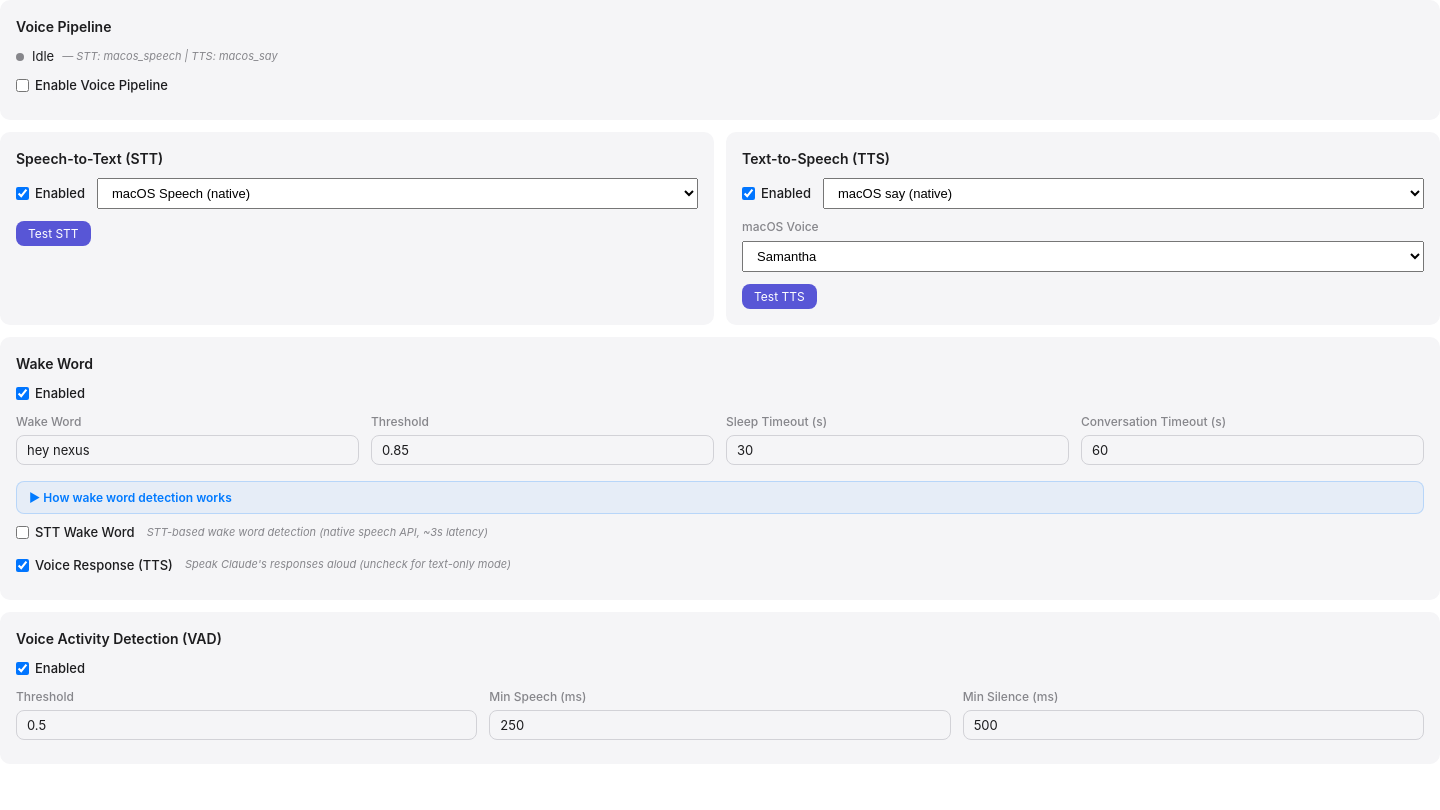
Scenario: VoiceTab › STT settings › shows STT result after successful test
Click the button "Test STT" at (53,234), box [16,221,91,246]
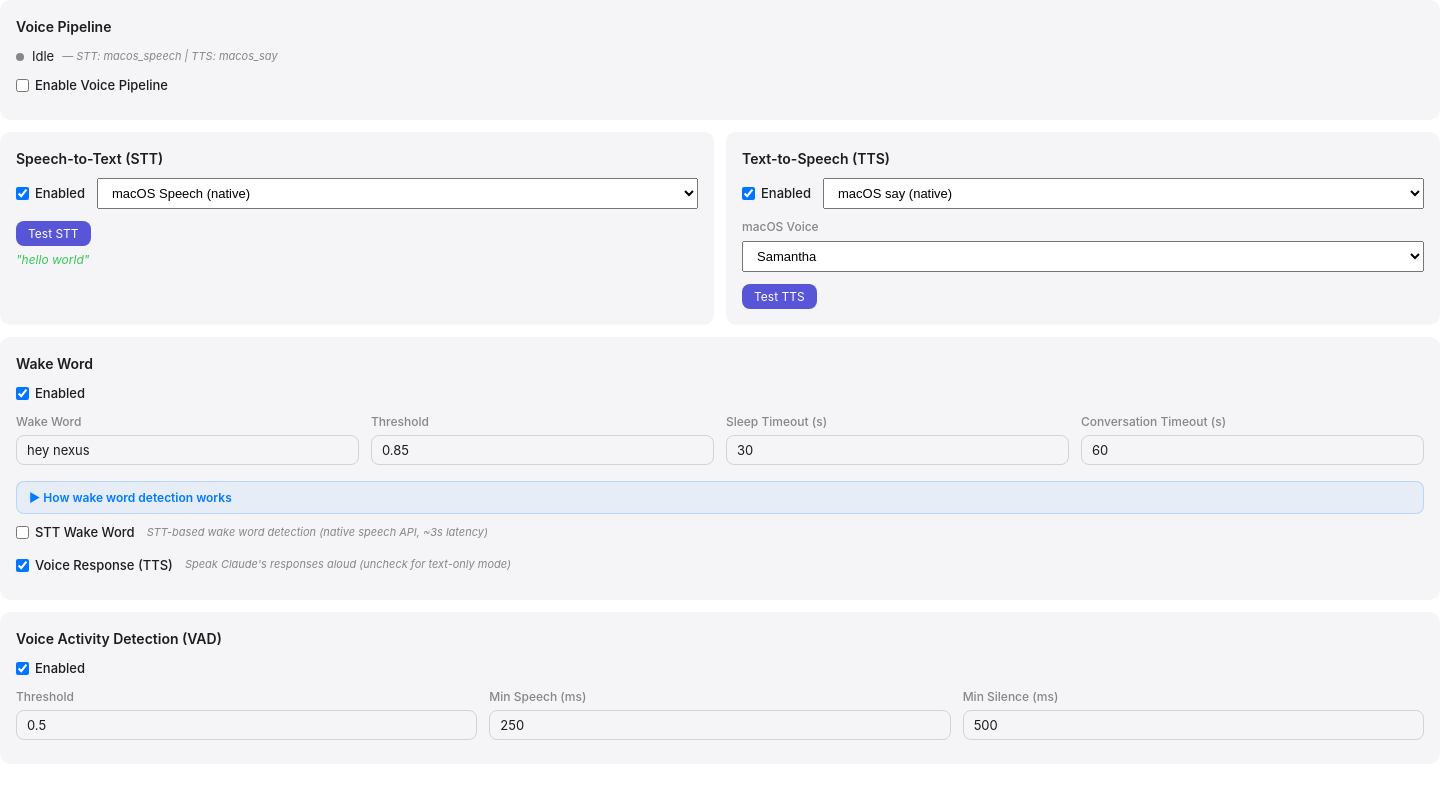
Expected: the text "\"hello world\"" is shown, [16,252,89,267]
